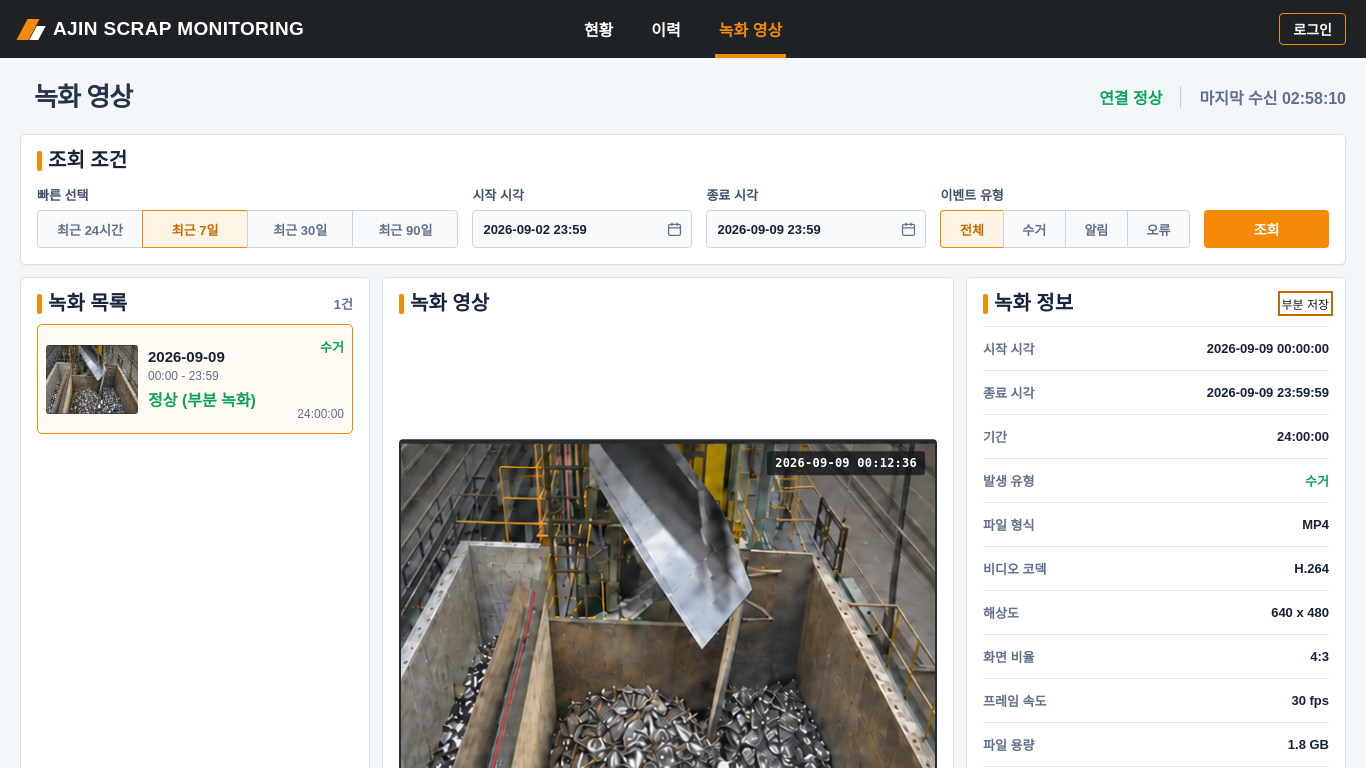
Scenario: 기존 부분 저장 표시를 선택한 경우에만 범위를 조회하고 닫을 때 focus를 복원한다
The image size is (1366, 768).
Click the button "부분 저장" at (1305, 303), box [1282, 294, 1329, 312]
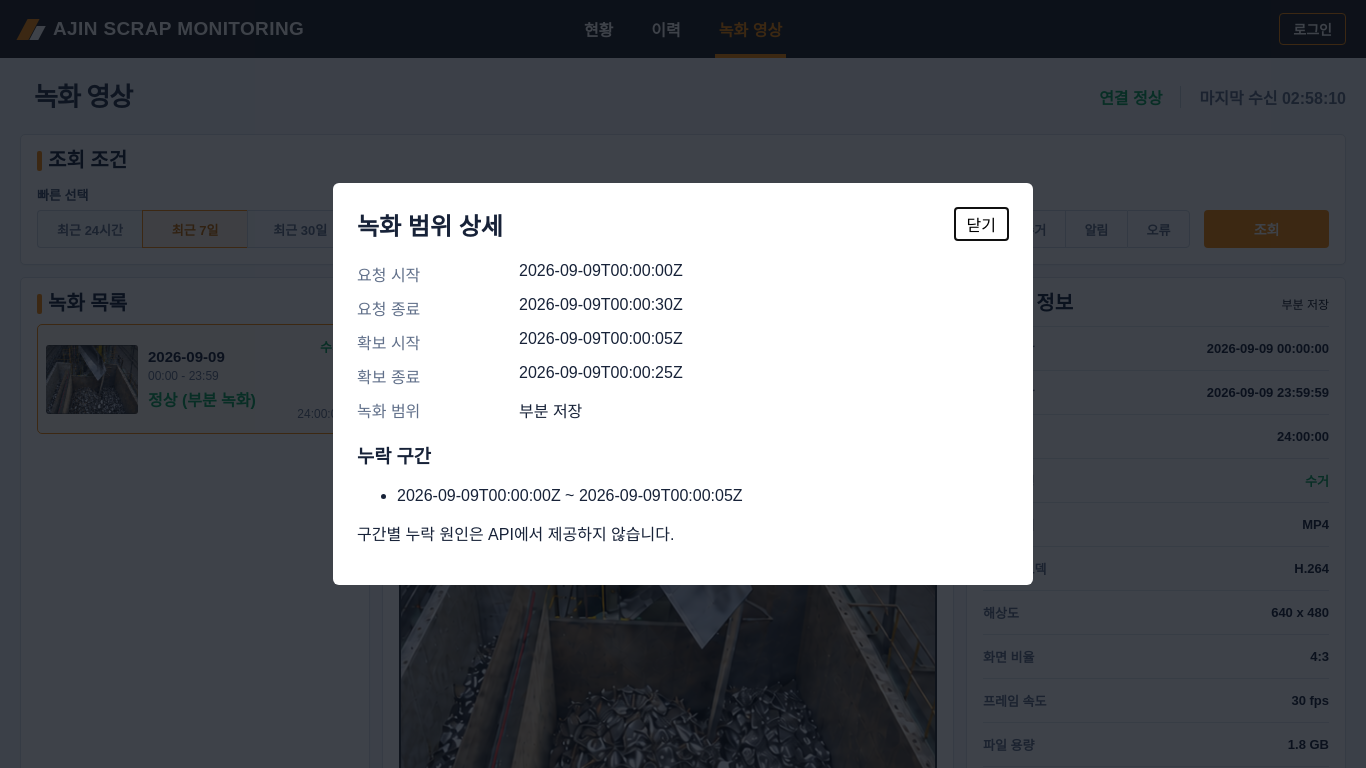
Now the text "2026-09-09T00:00:00Z" is shown, box [519, 262, 683, 279]
Now the text "2026-09-09T00:00:05Z" is shown, box [519, 330, 683, 347]
Now the text "구간별 누락 원인은 API에서 제공하지 않습니다." is shown, box [357, 526, 674, 543]
Press Escape
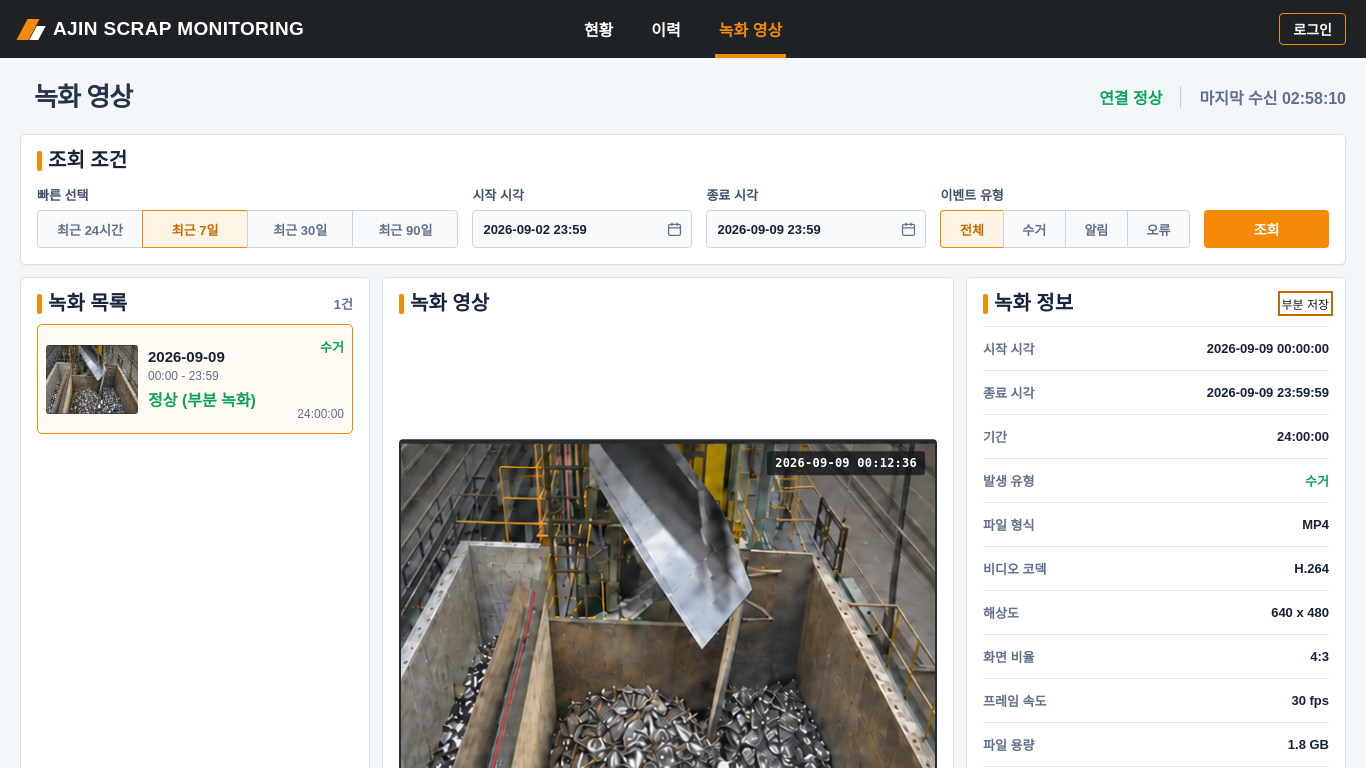
Expected: the heading "녹화 정보" is shown, [983, 292, 1073, 314]
Now the dialog is gone
